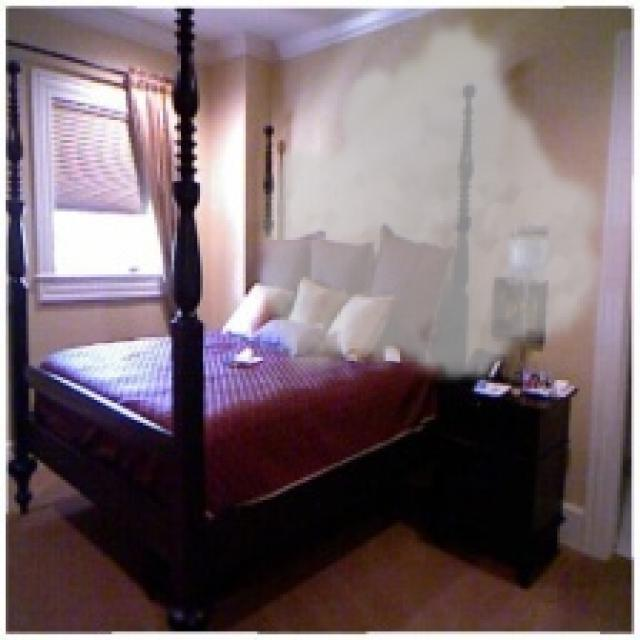Smoke: (252, 11, 614, 386)
